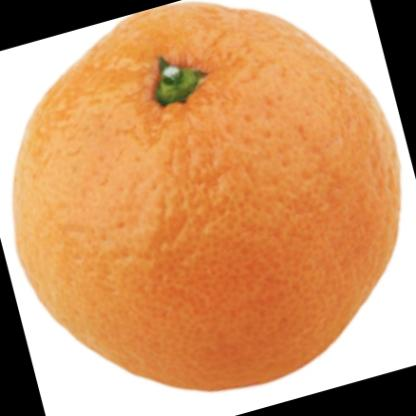fresh: (13, 5, 399, 389)
